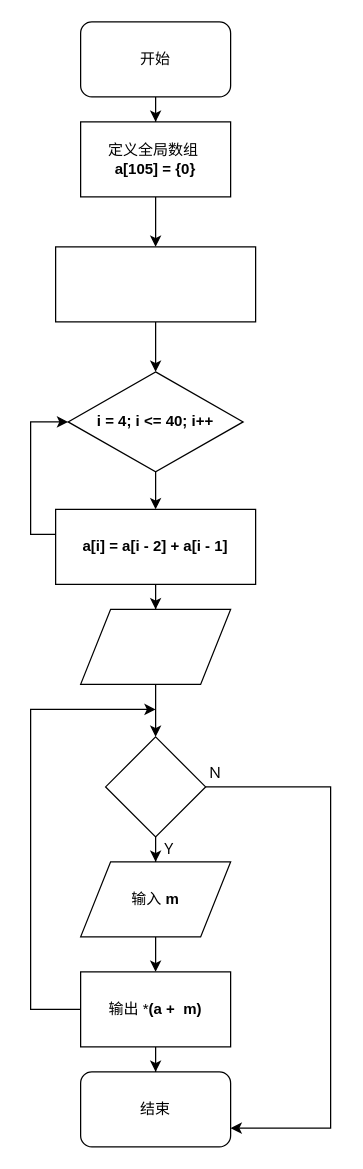
This 363x1169 diagram has some shape labels left out. Here are the shapes that lost their labels. From the top down, the centre of each, then its label:
point (155, 284): a[1] = 0, a[2] = 1, a[3] = 2
point (155, 646): 输入 n
point (155, 786): n--
